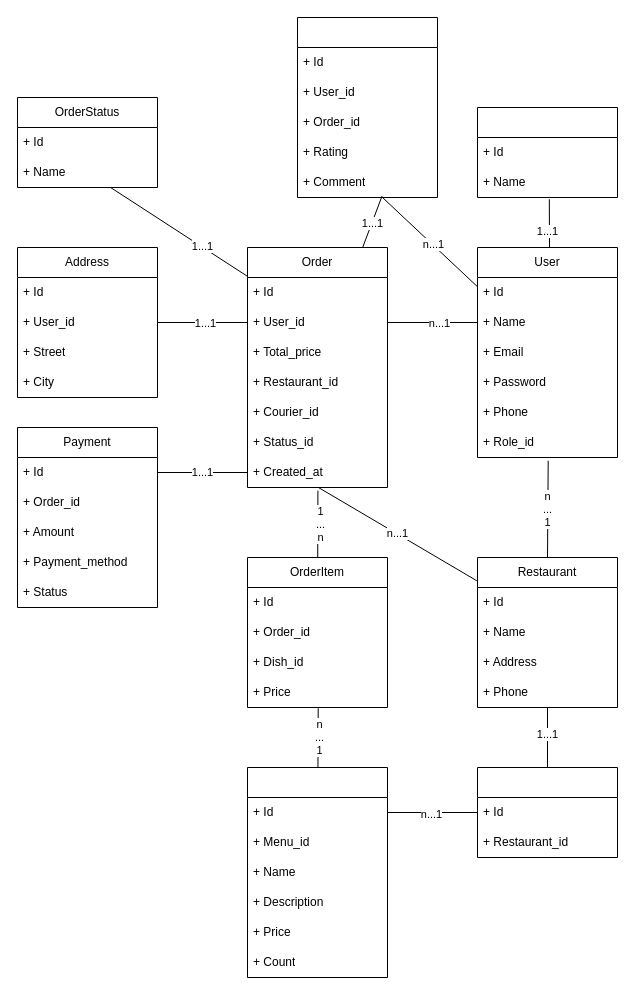
Some shapes in this 635 by 995 pixel diagram are drawn without their labels. Here are the shapes that lost their labels. From the top down, the box of each, then its label:
(296, 16, 438, 198): Review
(476, 106, 618, 198): Role
(476, 766, 618, 858): Menu
(246, 766, 388, 978): Dish
